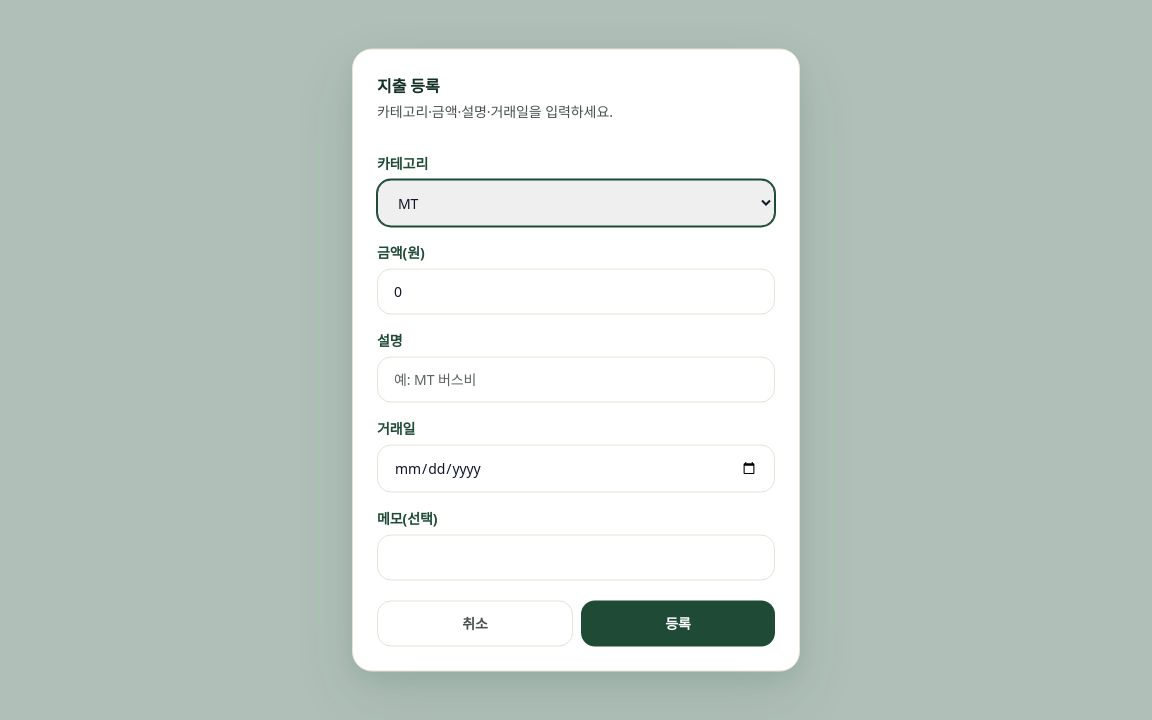
금전출납부 등록 다이얼로그 › 카테고리가 기타일 때만 직접입력이 보인다
This screenshot has width=1152, height=720.
Expected: the field labelled "직접입력" is not shown
Select "기타" in the dropdown labelled "카테고리" at (576, 203), box [377,180,775,226]
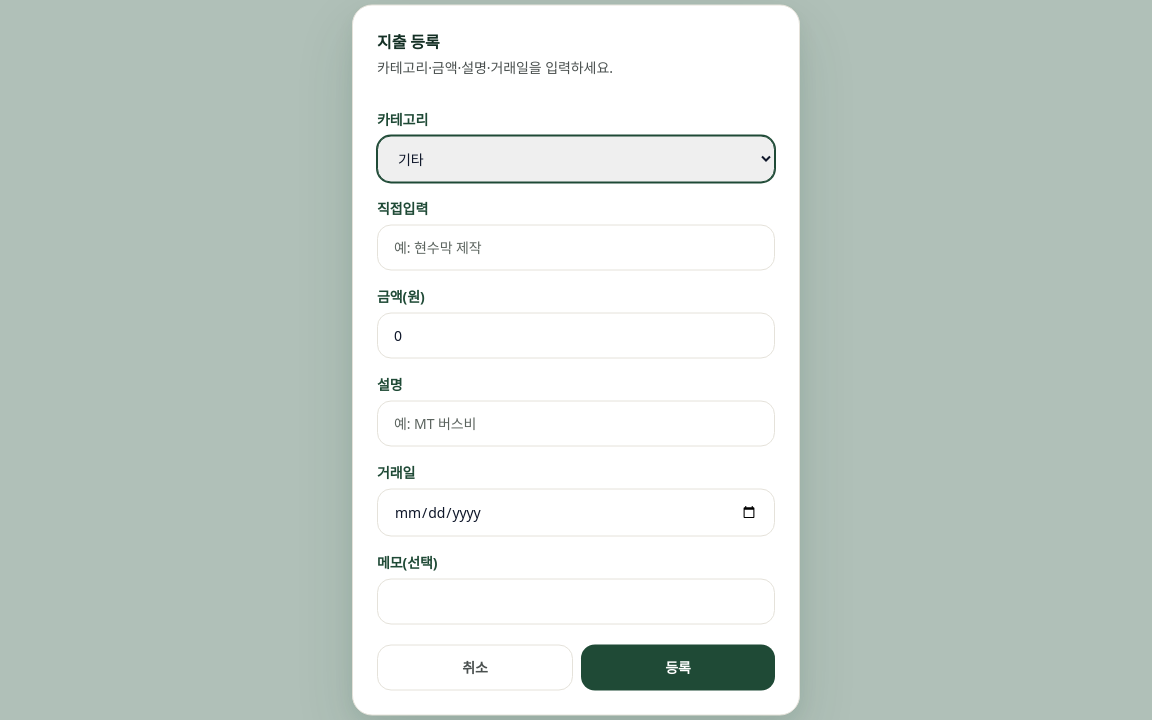
Expected: the field labelled "직접입력" is shown, [377,224,775,270]
